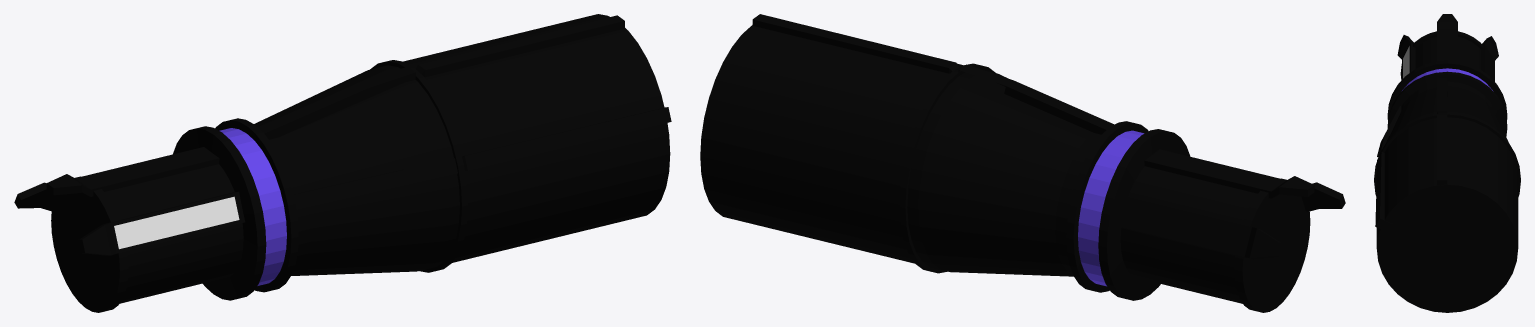
File: gun.glb
The picture shows the model from 3 angles, left to right: view 1: azimuth 30°, elevation 25°; view 2: azimuth 150°, elevation 25°; view 3: azimuth 270°, elevation 25°; orthographic projection. The views are drawn at different scales.
Visible parts, largest first — view 1: Gun, Cube.001, Cube, Cube.003, Cube.002, Cube.004; view 2: Gun, Cube, Cube.004, Cube.002, Cube.003; view 3: Gun, Cube, Cube.001, Cube.002, Cube.003, Cube.004.
Boxes of the visible parts, x1,y1,x2,y2 form: Gun: (51, 14, 670, 312); Cube.001: (293, 107, 671, 209); Cube: (258, 15, 624, 139); Cube.003: (79, 191, 245, 255); Cube.002: (46, 147, 219, 196); Cube.004: (14, 182, 59, 211); Gun: (700, 25, 1310, 312); Cube: (752, 14, 1114, 134); Cube.004: (1117, 196, 1282, 259); Cube.002: (1144, 149, 1314, 198); Cube.003: (1301, 182, 1345, 211); Gun: (1374, 31, 1520, 312); Cube: (1437, 77, 1447, 185); Cube.001: (1375, 106, 1401, 232); Cube.002: (1437, 14, 1457, 61); Cube.003: (1397, 35, 1415, 79); Cube.004: (1481, 36, 1498, 81).
Bounding box in the file's own units: 2.18 × 0.728 × 0.7181.
